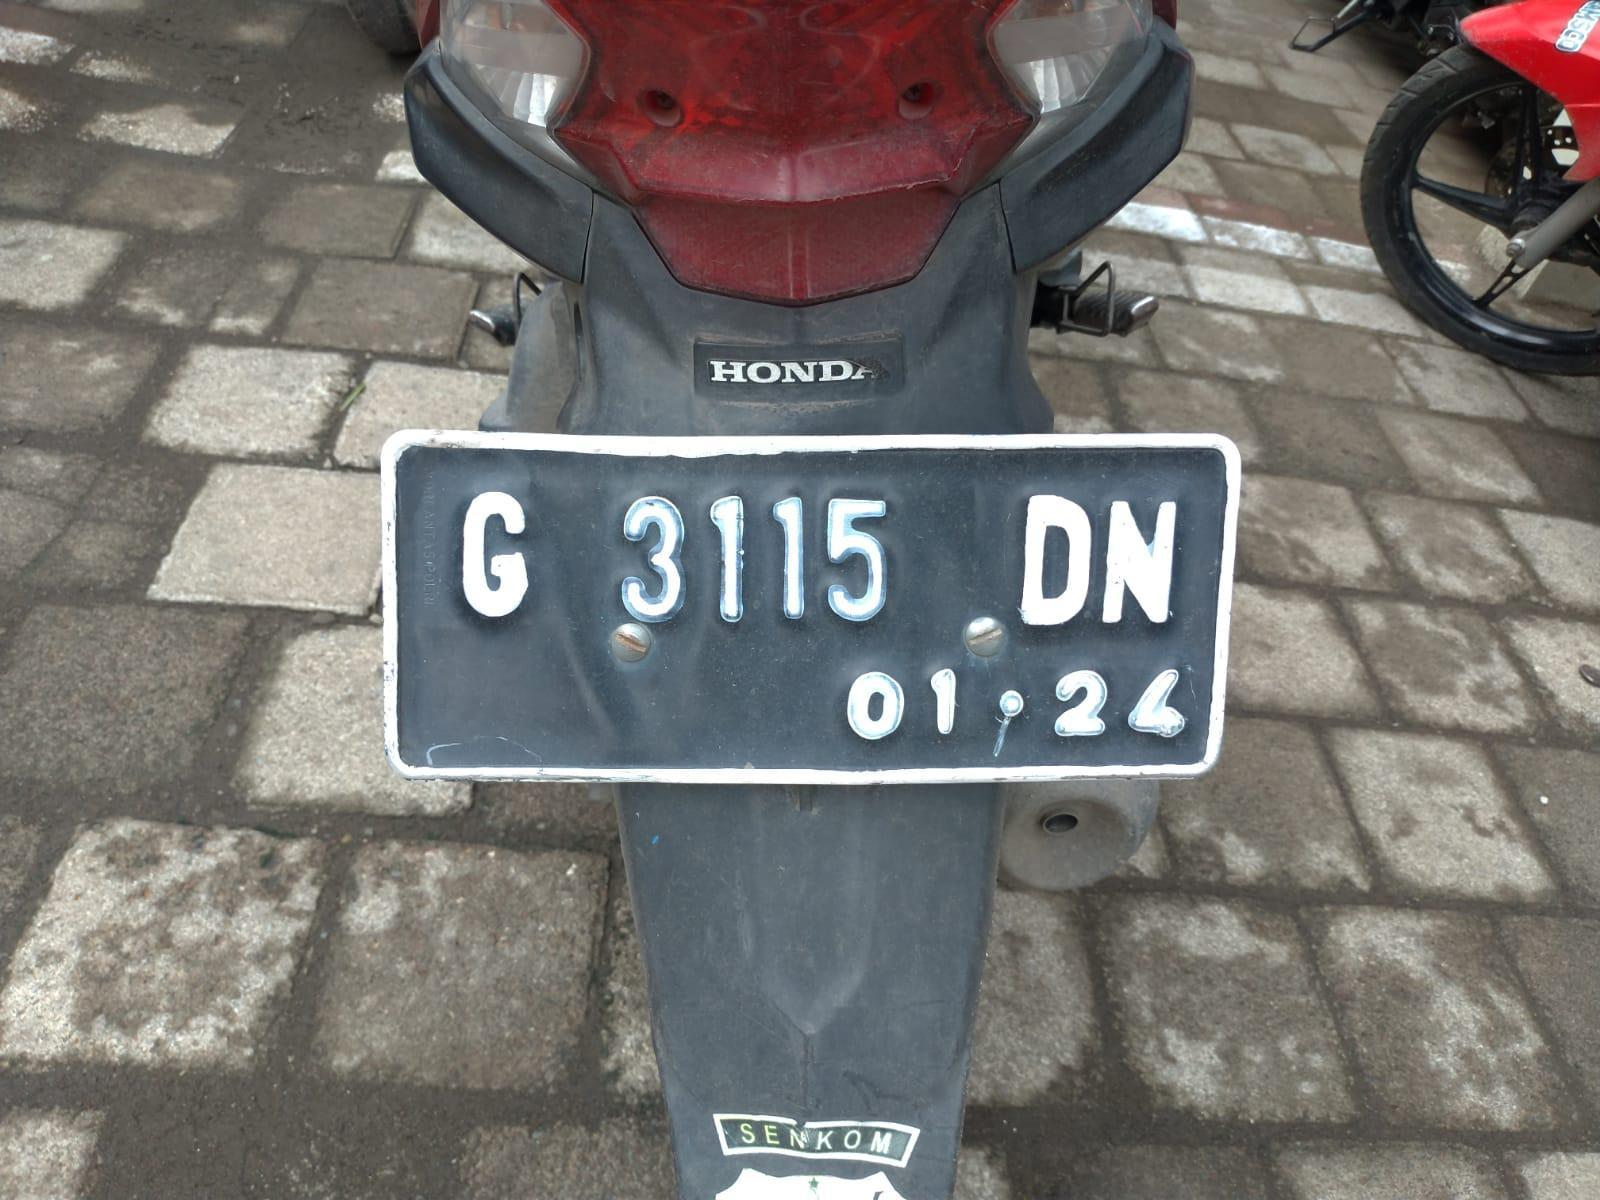clone-license-plate: (383, 430, 1229, 786)
